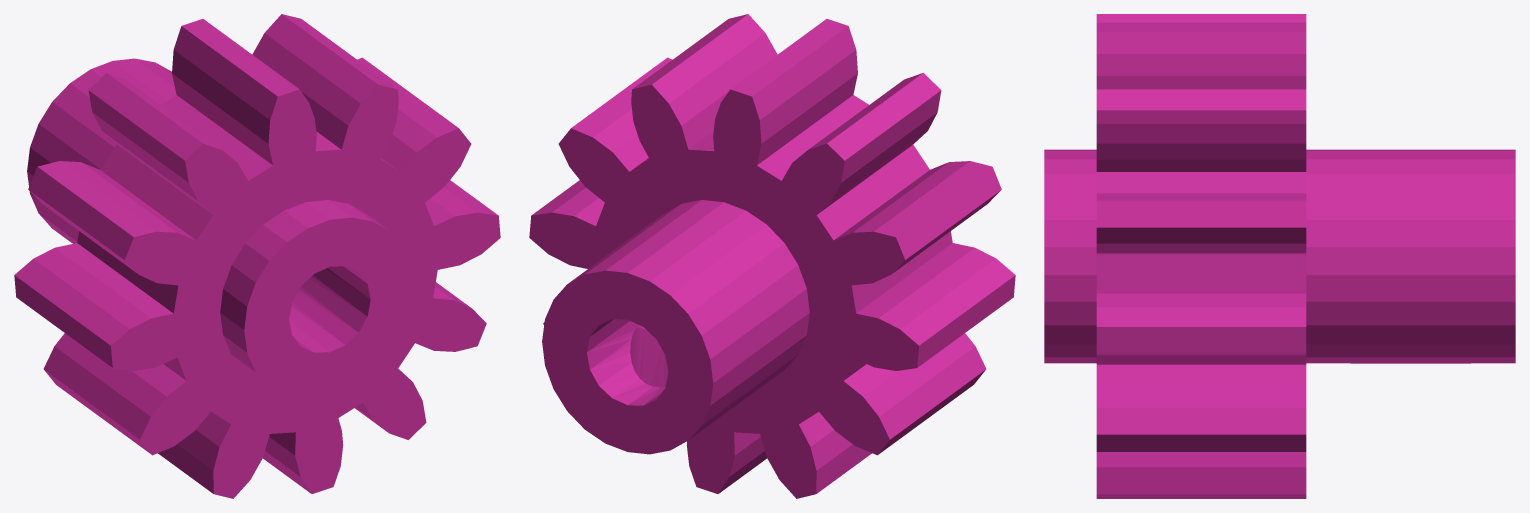
File: 12T_gear_v1.dae
The picture shows the model from 3 angles, left to right: view 1: azimuth 30°, elevation 25°; view 2: azimuth 150°, elevation 25°; view 3: azimuth 270°, elevation 25°; orthographic projection. The views are drawn at different scales.
Visible parts, largest first — view 1: _2T_gear; view 2: _2T_gear; view 3: _2T_gear.
Part boxes in pixels (x1,y1,x2,y2): _2T_gear: (14, 14, 500, 498); _2T_gear: (529, 14, 1015, 498); _2T_gear: (1044, 14, 1515, 498).
Bounding box in the file's own units: 0.0148 × 0.0143 × 0.0148.
